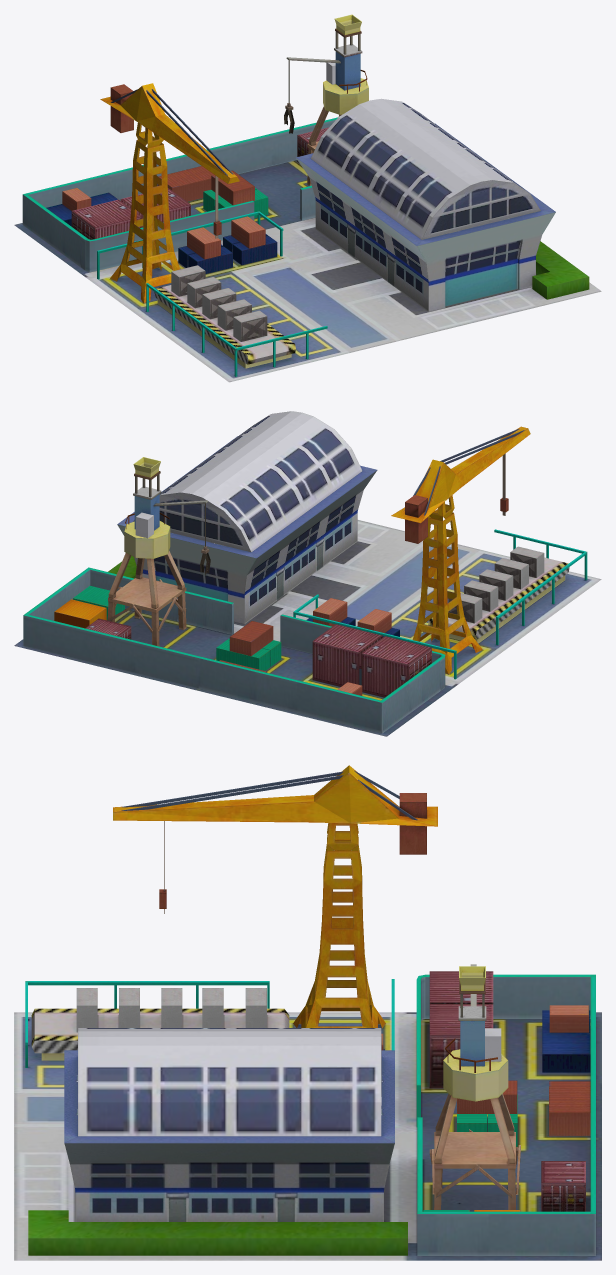
Rendered from plant_01.obj.
The picture shows the model from 3 angles, top to bottom: view 1: azimuth 30°, elevation 25°; view 2: azimuth 150°, elevation 25°; view 3: azimuth 270°, elevation 25°; orthographic projection. The views are drawn at different scales.
Parts seen in each view (by area): view 1: cangku01; view 2: cangku01; view 3: cangku01.
Part boxes in pixels (<box>): cangku01: <box>14,14,601,382</box>; cangku01: <box>14,411,601,736</box>; cangku01: <box>14,765,601,1260</box>.
Bounding box in the file's own units: 10.17 × 5.17 × 10.17.
